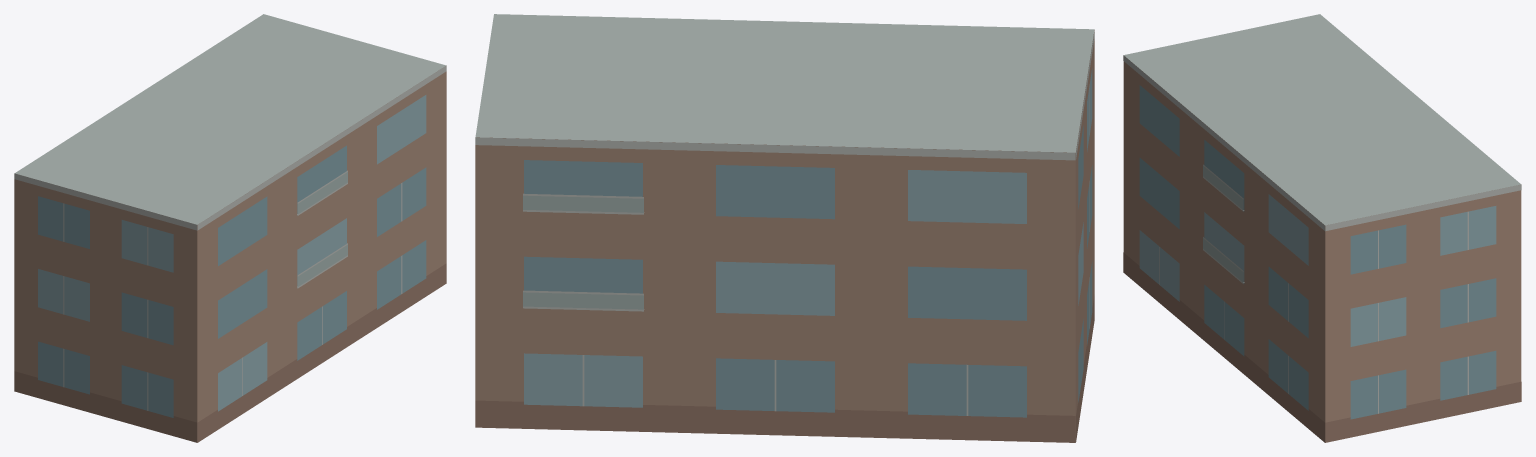
Rendered from survey-upis-32699182.glb.
3 views of the same model, side by side, from view 1: azimuth 30°, elevation 25°; view 2: azimuth 150°, elevation 25°; view 3: azimuth 270°, elevation 25° (orthographic). The views are drawn at different scales.
Parts seen in each view (by area): view 1: survey-upis-32699182.tmp; view 2: survey-upis-32699182.tmp; view 3: survey-upis-32699182.tmp.
Boxes of the visible parts, box(x1,y1,x2,y2) form: survey-upis-32699182.tmp: box(14, 14, 446, 442); survey-upis-32699182.tmp: box(475, 14, 1094, 442); survey-upis-32699182.tmp: box(1123, 14, 1521, 442).
Size of the model in its own units: 19.1 by 9.15 by 15.19.
